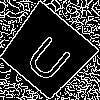U: (22, 27, 81, 86)
